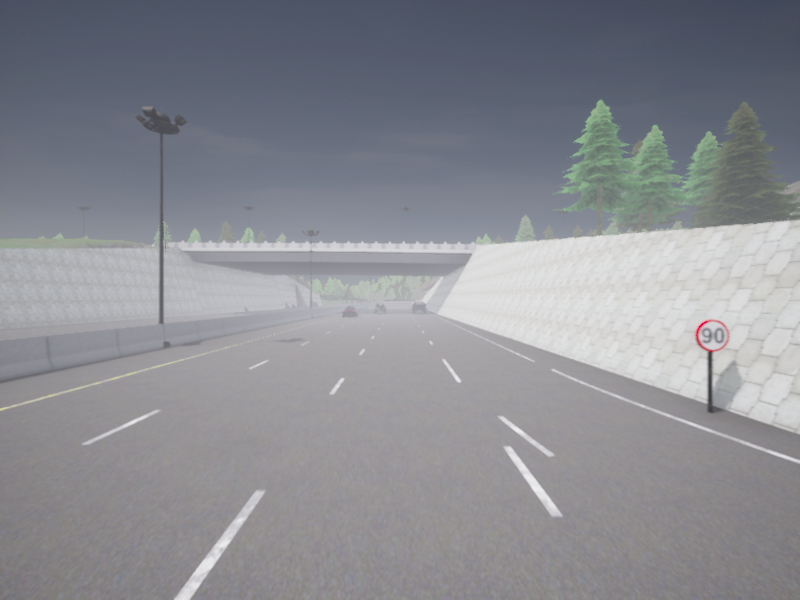vehicle: (343, 306, 359, 316), (412, 302, 425, 312), (375, 303, 385, 312)
